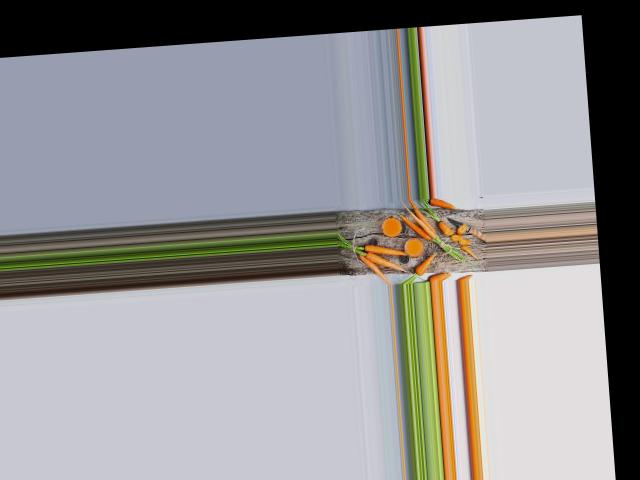carrot: (352, 250, 395, 286)
